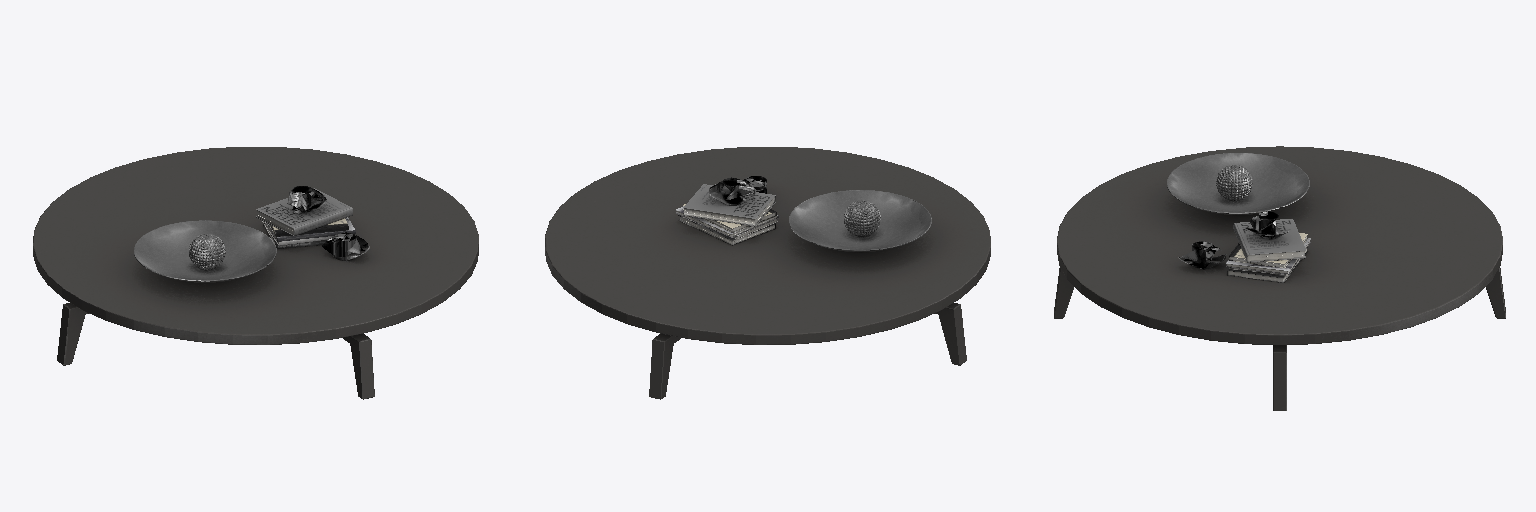
3 renders of one model, left to right at view 1: azimuth 30°, elevation 25°; view 2: azimuth 150°, elevation 25°; view 3: azimuth 270°, elevation 25°, orthographic.
Parts seen in each view (by area): view 1: solid_009, solid_001, solid_007; view 2: solid_009, solid_001, solid_007, solid_003, solid_008; view 3: solid_009, solid_001, solid_007, solid_003.
Part boxes in pixels (bbox=[...]): solid_009: bbox=[33, 147, 478, 399]; solid_001: bbox=[134, 186, 369, 282]; solid_007: bbox=[256, 188, 352, 235]; solid_009: bbox=[545, 147, 990, 399]; solid_001: bbox=[709, 176, 931, 251]; solid_007: bbox=[683, 184, 775, 226]; solid_003: bbox=[676, 211, 777, 244]; solid_008: bbox=[684, 197, 774, 225]; solid_009: bbox=[1054, 146, 1505, 410]; solid_001: bbox=[1167, 153, 1309, 269]; solid_007: bbox=[1233, 219, 1305, 262]; solid_003: bbox=[1226, 236, 1309, 282].
Bounding box in the file's own units: 2 × 0.5859 × 2.
Materials: 1 (1 with a texture image).